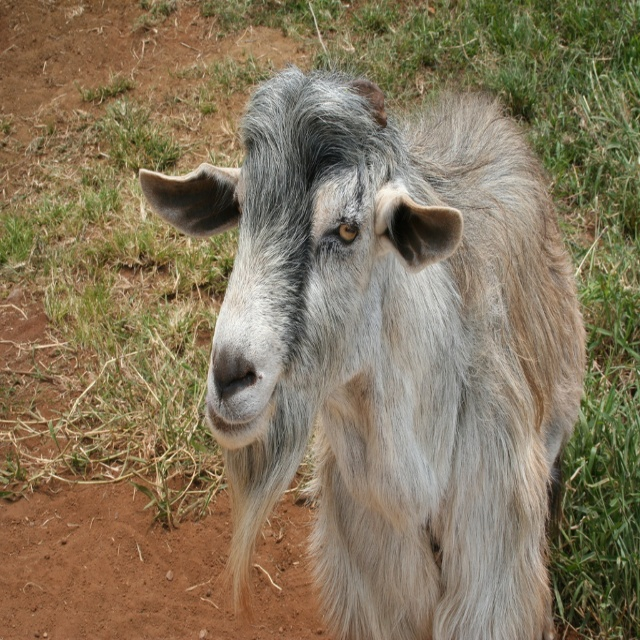Goat: (138, 49, 587, 640)
